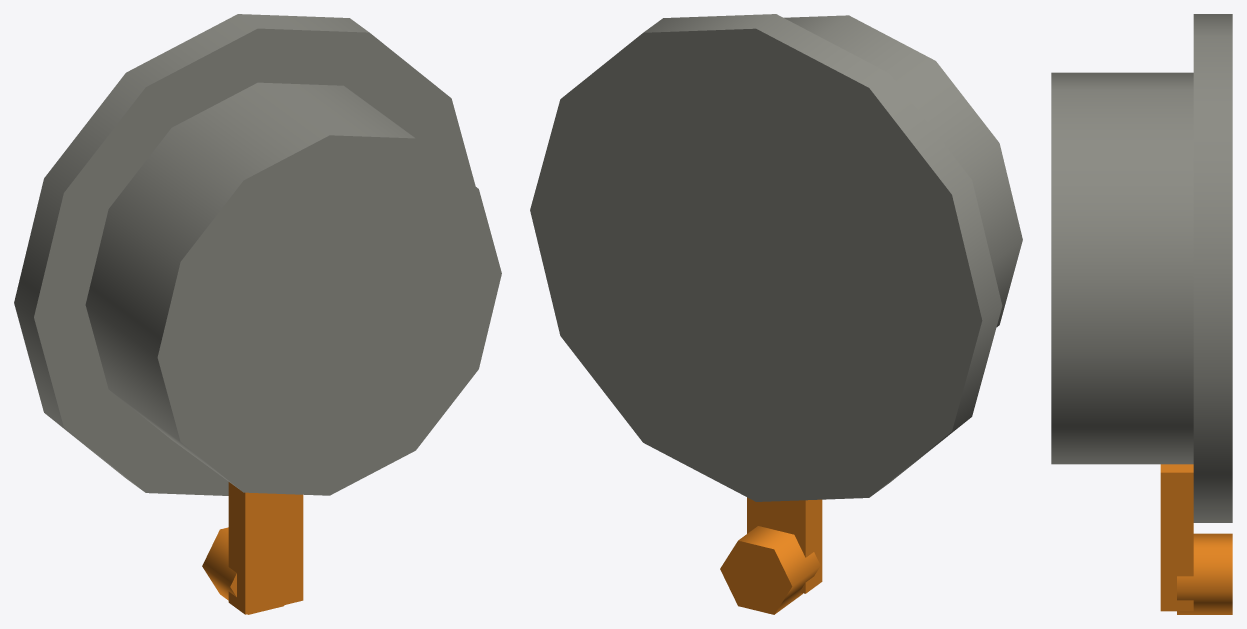
The model's file is refuge100_flange.obj.
3 renders of one model, left to right at view 1: azimuth 30°, elevation 25°; view 2: azimuth 150°, elevation 25°; view 3: azimuth 270°, elevation 25°, orthographic. The views are drawn at different scales.
Visible parts, largest first — view 1: refuge100_flange; view 2: refuge100_flange; view 3: refuge100_flange.
Part boxes in pixels (<box>): refuge100_flange: <box>14,14,501,614</box>; refuge100_flange: <box>530,14,1022,614</box>; refuge100_flange: <box>1051,14,1232,614</box>.
Size of the model in its own units: 1.56 by 1.92 by 0.5545.
